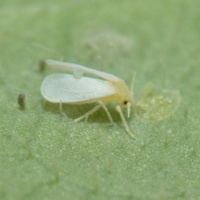insect: (41, 59, 134, 138)
